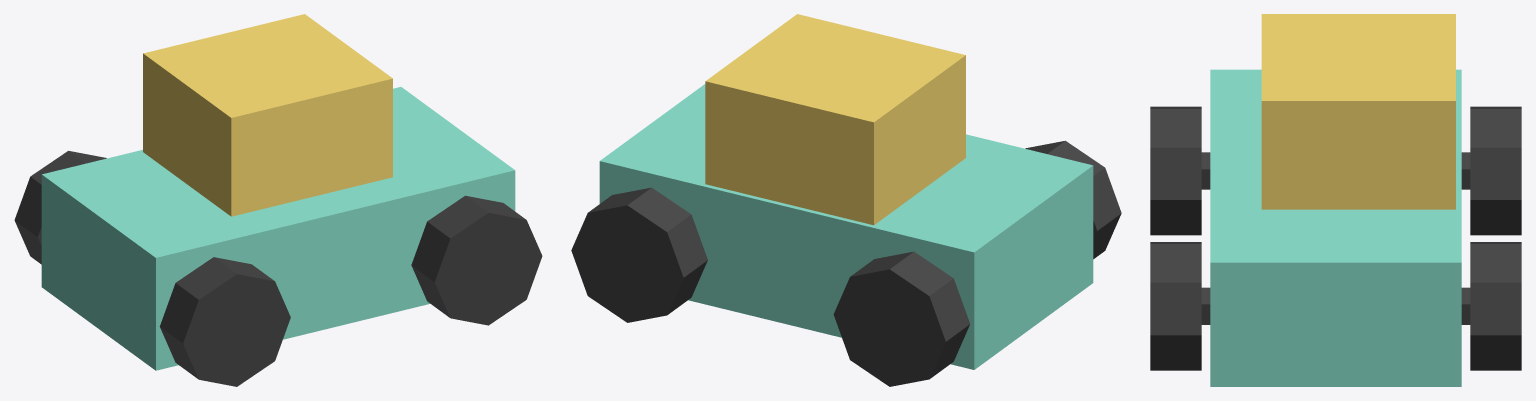
3 views of the same model, side by side, from view 1: azimuth 30°, elevation 25°; view 2: azimuth 150°, elevation 25°; view 3: azimuth 270°, elevation 25° (orthographic). The views are drawn at different scales.
Visible parts, largest first — view 1: Chassis, Body module, Wheel, Wheel.002, Wheel.001; view 2: Chassis, Body module, Wheel.003, Wheel.001, Wheel; view 3: Chassis, Body module, Wheel, Wheel.001, Wheel.002, Wheel.003, Wheel axle, Wheel axle.001.
Part boxes in pixels (left/top/right/bottom): Chassis: left=41, top=87, right=515, bottom=370; Body module: left=143, top=14, right=392, bottom=216; Wheel: left=159, top=257, right=290, bottom=386; Wheel.002: left=411, top=195, right=542, bottom=325; Wheel.001: left=14, top=150, right=106, bottom=264; Chassis: left=599, top=84, right=1093, bottom=369; Body module: left=705, top=14, right=965, bottom=225; Wheel.003: left=571, top=187, right=707, bottom=322; Wheel.001: left=833, top=251, right=969, bottom=386; Wheel: left=1025, top=140, right=1121, bottom=259; Chassis: left=1210, top=69, right=1461, bottom=386; Body module: left=1261, top=14, right=1455, bottom=209; Wheel: left=1150, top=106, right=1201, bottom=235; Wheel.001: left=1470, top=106, right=1521, bottom=235; Wheel.002: left=1150, top=242, right=1201, bottom=370; Wheel.003: left=1470, top=242, right=1521, bottom=370; Wheel axle: left=1201, top=152, right=1470, bottom=189; Wheel axle.001: left=1201, top=287, right=1470, bottom=324.
Bounding box in the file's own units: 40 × 23.5 × 32.5.
